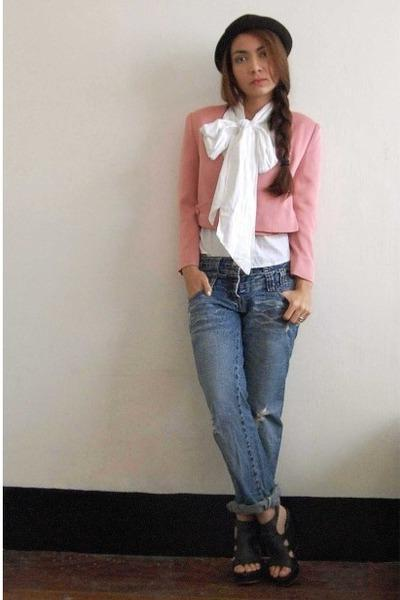jacket: (177, 107, 326, 286)
trousers: (181, 252, 313, 512)
